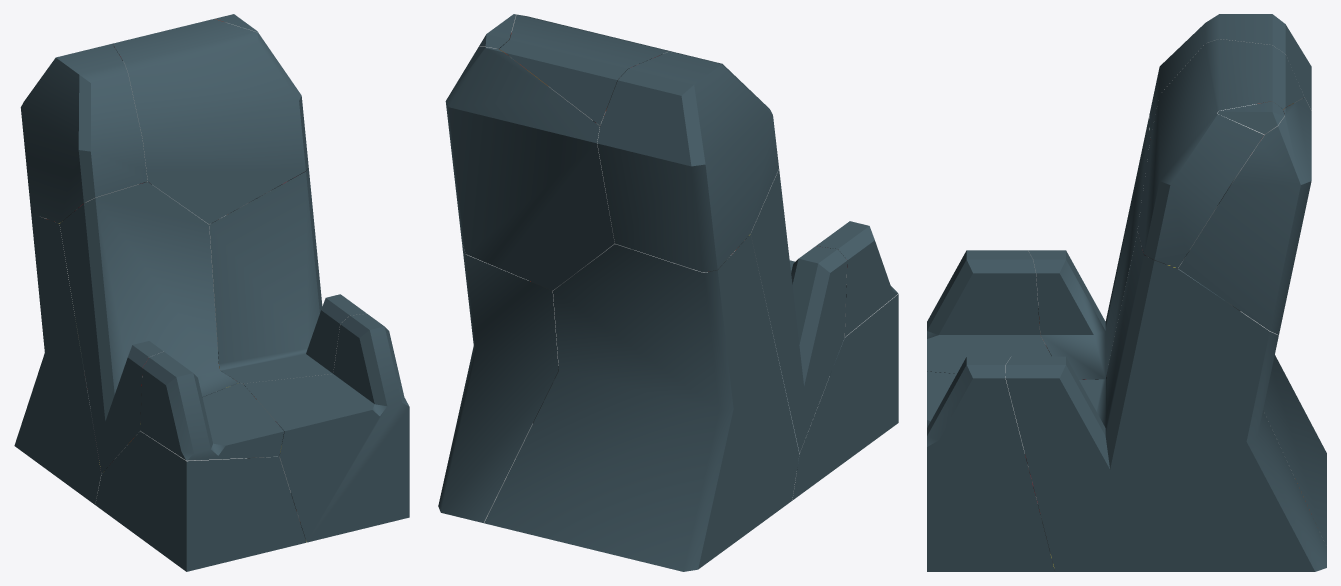
Rendered from ghe_tai_DEST.fbx.
3 views of the same model, side by side, from view 1: azimuth 30°, elevation 25°; view 2: azimuth 150°, elevation 25°; view 3: azimuth 270°, elevation 25° (orthographic). The views are drawn at different scales.
Parts seen in each view (by area): view 1: ghe_tai_cell.003, ghe_tai_cell.007, ghe_tai_cell.002, ghe_tai_cell, ghe_tai_cell.004, ghe_tai_cell.008, ghe_tai_cell.005, ghe_tai_cell.009; view 2: ghe_tai_cell.005, ghe_tai_cell.008, ghe_tai_cell.006, ghe_tai_cell, ghe_tai_cell.003, ghe_tai_cell.004, ghe_tai_cell.007, ghe_tai_cell.009, ghe_tai_cell.001; view 3: ghe_tai_cell, ghe_tai_cell.002, ghe_tai_cell.007, ghe_tai_cell.006, ghe_tai_cell.009, ghe_tai_cell.003, ghe_tai_cell.005, ghe_tai_cell.008, ghe_tai_cell.001.
Boxes of the visible parts, x1,y1,x2,y2 form: ghe_tai_cell.003: [59, 182, 238, 473]; ghe_tai_cell.007: [112, 19, 308, 224]; ghe_tai_cell.002: [243, 314, 409, 542]; ghe_tai_cell: [209, 167, 366, 383]; ghe_tai_cell.004: [95, 431, 306, 571]; ghe_tai_cell.008: [20, 44, 147, 223]; ghe_tai_cell.005: [14, 213, 101, 504]; ghe_tai_cell.009: [140, 351, 284, 460]; ghe_tai_cell.005: [484, 234, 799, 571]; ghe_tai_cell.008: [597, 52, 778, 272]; ghe_tai_cell.006: [445, 46, 614, 290]; ghe_tai_cell: [438, 241, 558, 523]; ghe_tai_cell.003: [750, 169, 847, 453]; ghe_tai_cell.004: [792, 294, 898, 500]; ghe_tai_cell.007: [497, 14, 676, 125]; ghe_tai_cell.009: [789, 221, 898, 336]; ghe_tai_cell.001: [479, 14, 515, 48]; ghe_tai_cell: [1005, 231, 1326, 571]; ghe_tai_cell.002: [927, 356, 1055, 571]; ghe_tai_cell.007: [1137, 39, 1304, 268]; ghe_tai_cell.006: [1178, 97, 1311, 334]; ghe_tai_cell.009: [927, 250, 1051, 373]; ghe_tai_cell.003: [1028, 116, 1150, 379]; ghe_tai_cell.005: [1263, 355, 1326, 546]; ghe_tai_cell.008: [1149, 14, 1311, 138]; ghe_tai_cell.001: [1218, 101, 1284, 134].
Bounding box in the file's own units: 200 × 340 × 275.
